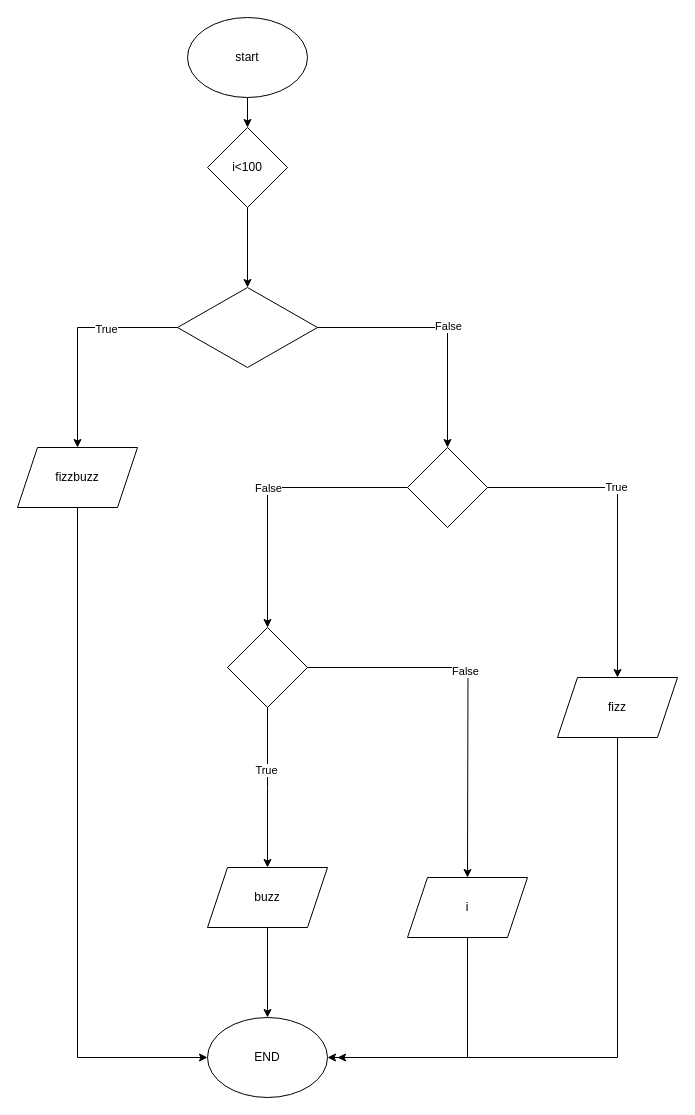
Image size: 695x1115. Some labels were removed from this diagram. Each missing label, with the centre of its shape:
"i%3 == 0" goes at [447,487].
"i%3==0 && i%5==0" goes at [247,327].
"i%5==0" goes at [267,667].
